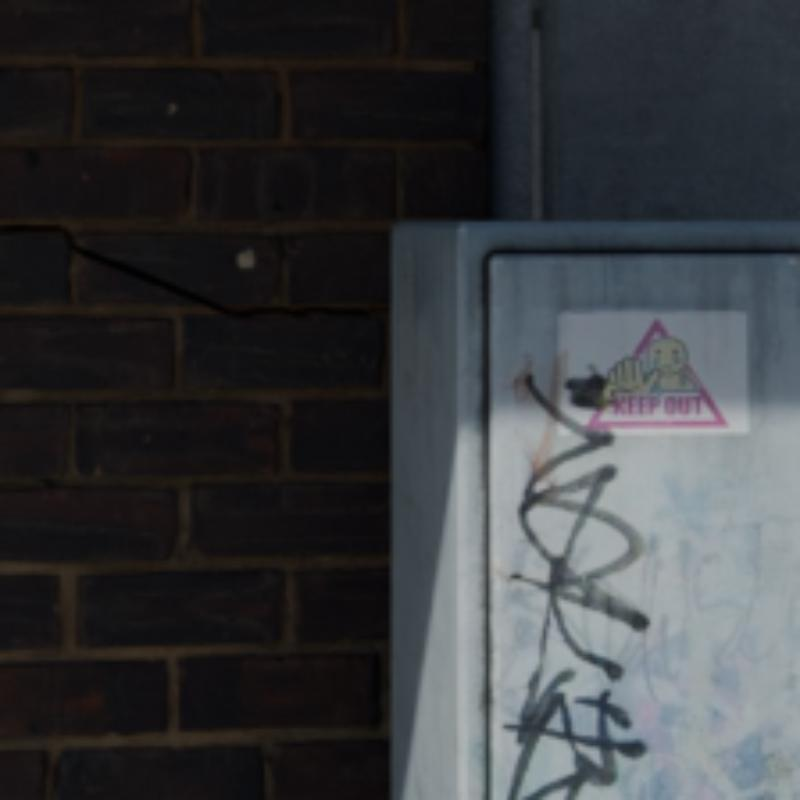crack: (0, 225, 389, 314)
